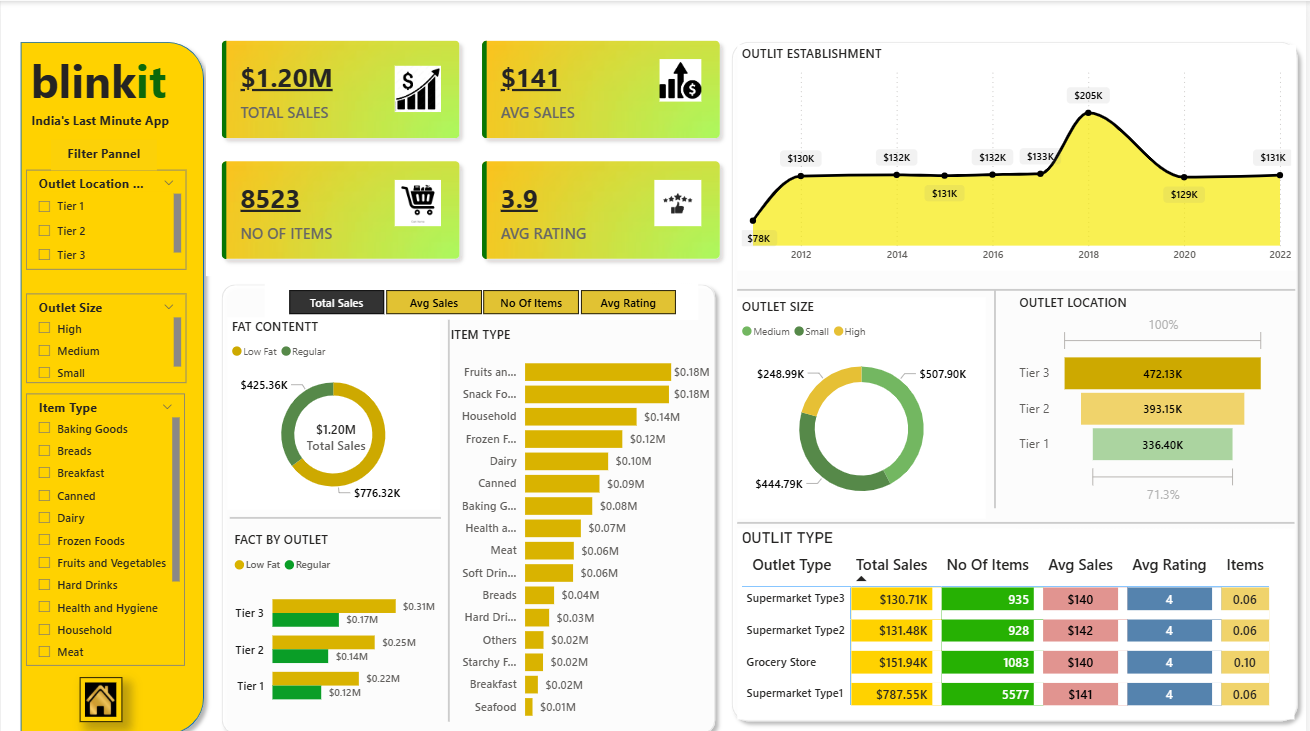

The page's visual inventory and layout, read from the dashboard file:
{"tool":"powerbi","page":{"name":"Page 1","canvas":[1400,800],"ordinal":0},"visuals":[{"type":"shape","box":[12.6,34.7,214.6,760.6],"z":0},{"type":"textbox","box":[26.8,46.9,171.6,84.5],"z":1000},{"type":"textbox","title":"India''s LM App","box":[9.4,113.9,194.4,34.9],"z":2000},{"type":"cardVisual","fields":{"Data":["BlinkIT Grocery Data.Total Sales","BlinkIT Grocery Data.Avg Sales","BlinkIT Grocery Data.No Of Items","BlinkIT Grocery Data.Avg Rating"]},"box":[219.8,25.5,569.7,269.4],"z":3000},{"type":"shape","title":"LeftSide EntireBox","box":[227.9,294.9,547,500],"z":4000},{"type":"donutChart","title":"FAT CONTENTT","fields":{"Y":["BlinkIT Grocery Data.Total Sales"],"Category":["BlinkIT Grocery Data.Item Fat Content"]},"box":[242.6,339.1,227.9,206.4],"z":5000},{"type":"slicer","title":"LeftBox Slicer","fields":{"Values":["Metrics.Metrics"]},"box":[282.8,303,465.1,38.9],"z":6000},{"type":"cardVisual","fields":{"Data":["BlinkIT Grocery Data.Total Sales"]},"box":[307,433,105.9,61.7],"z":7000},{"type":"clusteredBarChart","title":"FACT BY OUTLET","fields":{"Y":["BlinkIT Grocery Data.Total Sales"],"Category":["BlinkIT Grocery Data.Outlet Location Type"],"Series":["BlinkIT Grocery Data.Item Fat Content"]},"box":[245.3,568.4,225.2,202.4],"z":8000},{"type":"shape","title":"LeftBox Horizontal line","box":[245.3,545.6,226.5,17.4],"z":9000},{"type":"shape","title":"LeftBox Vertical line","box":[457,341.3,46.3,431],"z":10000},{"type":"barChart","title":"ITEM TYPE","fields":{"Y":["BlinkIT Grocery Data.Total Sales"],"Category":["BlinkIT Grocery Data.Item Type"]},"box":[477.2,348.5,288.2,433],"z":11000},{"type":"shape","title":"RightSide Box","box":[774.8,34.9,624.7,746.7],"z":12000},{"type":"lineChart","title":"OUTLIT ESTABLISHMENT","fields":{"Category":["BlinkIT Grocery Data.Outlet Establishment Year"],"Y":["BlinkIT Grocery Data.Total Sales"]},"box":[789.5,46.9,599.2,242.6],"z":13000},{"type":"shape","title":"Horizontal line","box":[789.7,289.3,598.8,40.5],"z":14000},{"type":"donutChart","title":"OUTLET SIZE","fields":{"Y":["BlinkIT Grocery Data.Total Sales"],"Category":["BlinkIT Grocery Data.Outlet Size"]},"box":[789.5,317.7,266.8,237.3],"z":15000},{"type":"shape","title":"Vertical line","box":[1044.2,309.5,43.4,234.3],"z":16000},{"type":"funnel","title":"OUTLET LOCATION","fields":{"Y":["Sum(BlinkIT Grocery Data.Sales)"],"Category":["BlinkIT Grocery Data.Outlet Location Type"]},"box":[1087.3,314,274,230],"z":17000},{"type":"shape","title":"Horizontal line","box":[789.5,542.9,597.9,33.5],"z":18000},{"type":"pivotTable","title":"OUTLIT TYPE","fields":{"Rows":["BlinkIT Grocery Data.Outlet Type"],"Values":["BlinkIT Grocery Data.Total Sales","BlinkIT Grocery Data.No Of Items","BlinkIT Grocery Data.Avg Sales","BlinkIT Grocery Data.Avg Rating","Avg(BlinkIT Grocery Data.Item Visibility)"]},"box":[789.5,565.7,597.9,205.1],"z":19000},{"type":"slicer","title":"Outlet Location Slicer","fields":{"Values":["BlinkIT Grocery Data.Outlet Location Type"]},"box":[26.8,181.5,172,107.3],"z":20000},{"type":"slicer","title":"Outlet Size Slicer","fields":{"Values":["BlinkIT Grocery Data.Outlet Size"]},"box":[26.8,314,172,96.3],"z":21000},{"type":"textbox","box":[53.7,148.3,113.6,33.1],"z":22000},{"type":"slicer","title":"ItemType Slicer","fields":{"Values":["BlinkIT Grocery Data.Item Type"]},"box":[26.8,421.3,170.4,291.9],"z":23000},{"type":"image","box":[84.5,725.2,45.6,48.3],"z":24000}]}

Visuals, with their boxes in screenshot pixels (x1, y1, x2, y2), scaled from the page's 1400x800 canvas onto the 1310x731 screenshot:
shape: BBox(12, 32, 213, 727)
textbox: BBox(25, 43, 186, 120)
"India''s LM App" textbox: BBox(9, 104, 191, 136)
cardVisual - BlinkIT Grocery Data.Total Sales x BlinkIT Grocery Data.Avg Sales: BBox(206, 23, 739, 269)
"LeftSide EntireBox" shape: BBox(213, 269, 725, 726)
"FAT CONTENTT" donutChart: BBox(227, 310, 440, 498)
"LeftBox Slicer" slicer: BBox(265, 277, 700, 312)
cardVisual - BlinkIT Grocery Data.Total Sales: BBox(287, 396, 386, 452)
"FACT BY OUTLET" clusteredBarChart: BBox(230, 519, 440, 704)
"LeftBox Horizontal line" shape: BBox(230, 499, 441, 514)
"LeftBox Vertical line" shape: BBox(428, 312, 471, 706)
"ITEM TYPE" barChart: BBox(447, 318, 716, 714)
"RightSide Box" shape: BBox(725, 32, 1309, 714)
"OUTLIT ESTABLISHMENT" lineChart: BBox(739, 43, 1299, 265)
"Horizontal line" shape: BBox(739, 264, 1299, 301)
"OUTLET SIZE" donutChart: BBox(739, 290, 988, 507)
"Vertical line" shape: BBox(977, 283, 1018, 497)
"OUTLET LOCATION" funnel: BBox(1017, 287, 1274, 497)
"Horizontal line" shape: BBox(739, 496, 1298, 527)
"OUTLIT TYPE" pivotTable: BBox(739, 517, 1298, 704)
"Outlet Location Slicer" slicer: BBox(25, 166, 186, 264)
"Outlet Size Slicer" slicer: BBox(25, 287, 186, 375)
textbox: BBox(50, 136, 157, 166)
"ItemType Slicer" slicer: BBox(25, 385, 185, 652)
image: BBox(79, 663, 122, 707)
